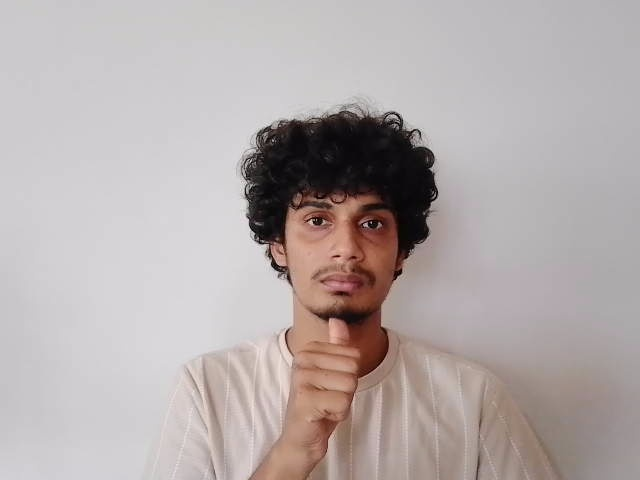not: (289, 289, 400, 423)
